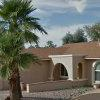Palm tree: (1, 3, 33, 95)
